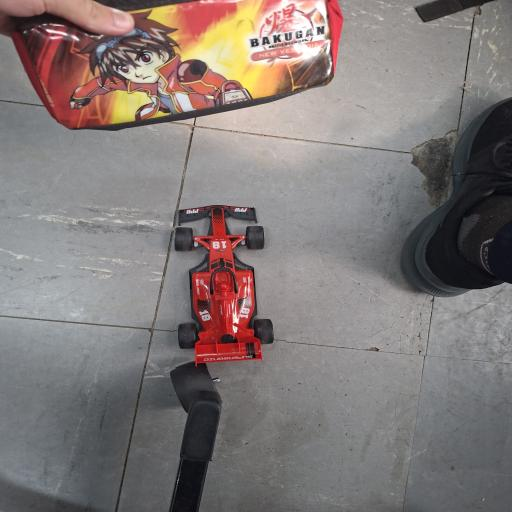carro: (174, 198, 286, 368)
